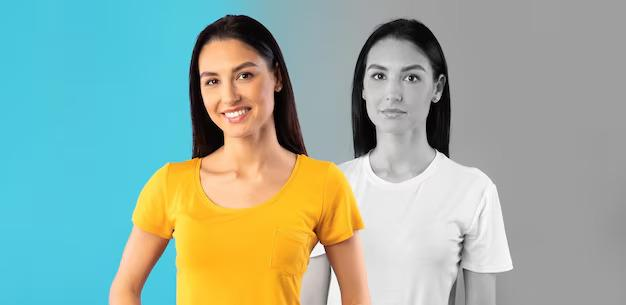feliz: (191, 16, 281, 144)
normal: (359, 30, 439, 136)
